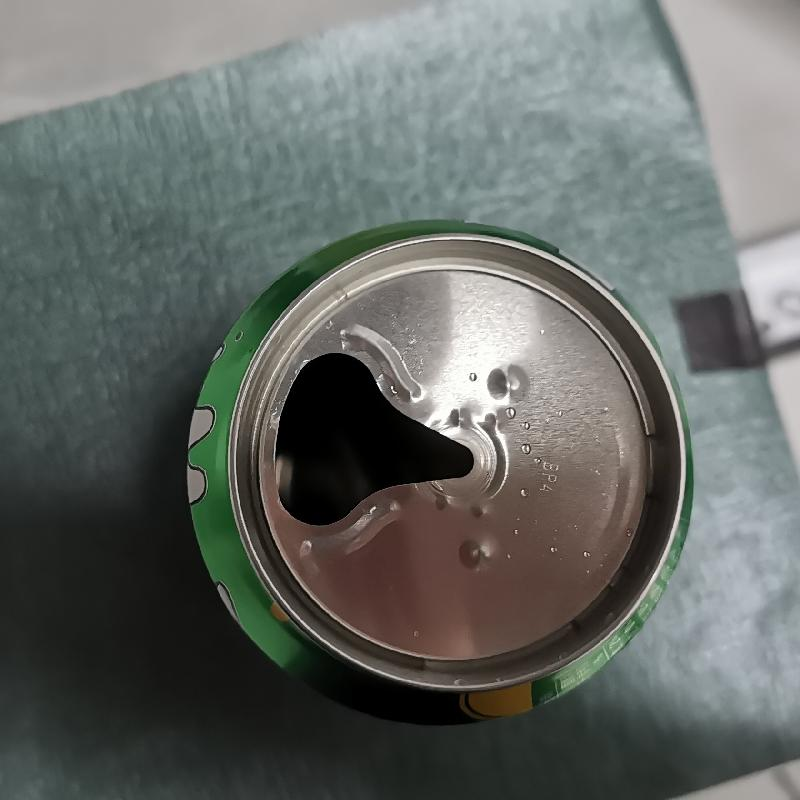cans: (173, 217, 696, 724)
